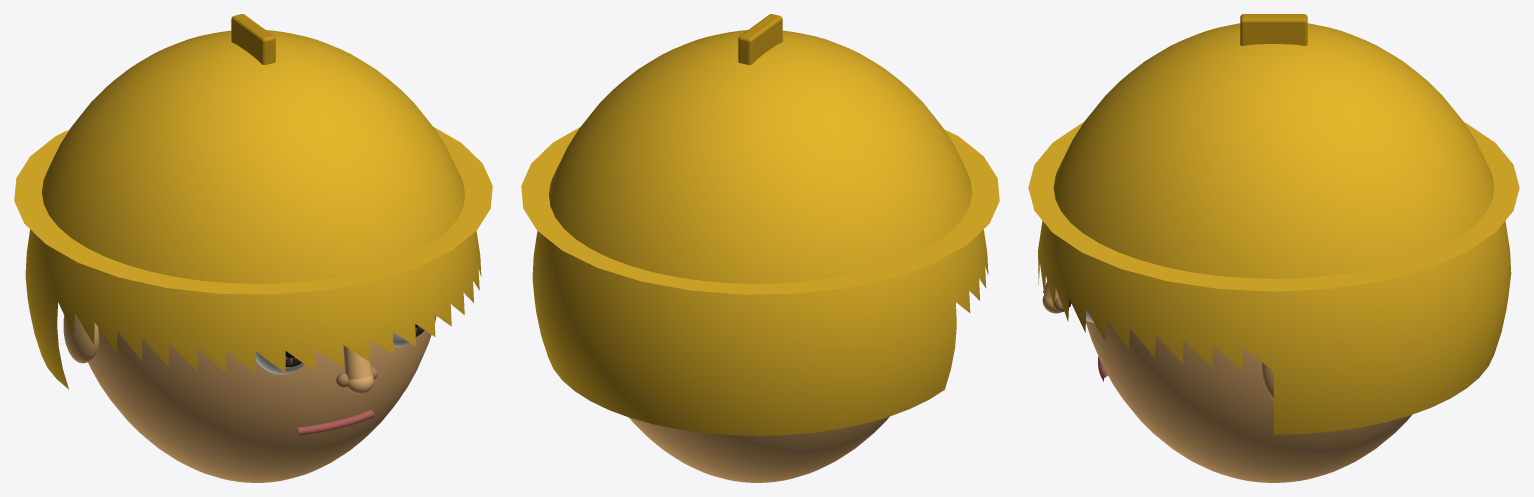
File: 07-casque-de-chantier.glb
3 views of the same model, side by side, from view 1: azimuth 30°, elevation 25°; view 2: azimuth 150°, elevation 25°; view 3: azimuth 270°, elevation 25° (orthographic). The views are drawn at different scales.
Bounding box in the file's own units: 0.3635 × 0.3705 × 0.3635.
12 materials, 1 textured.
